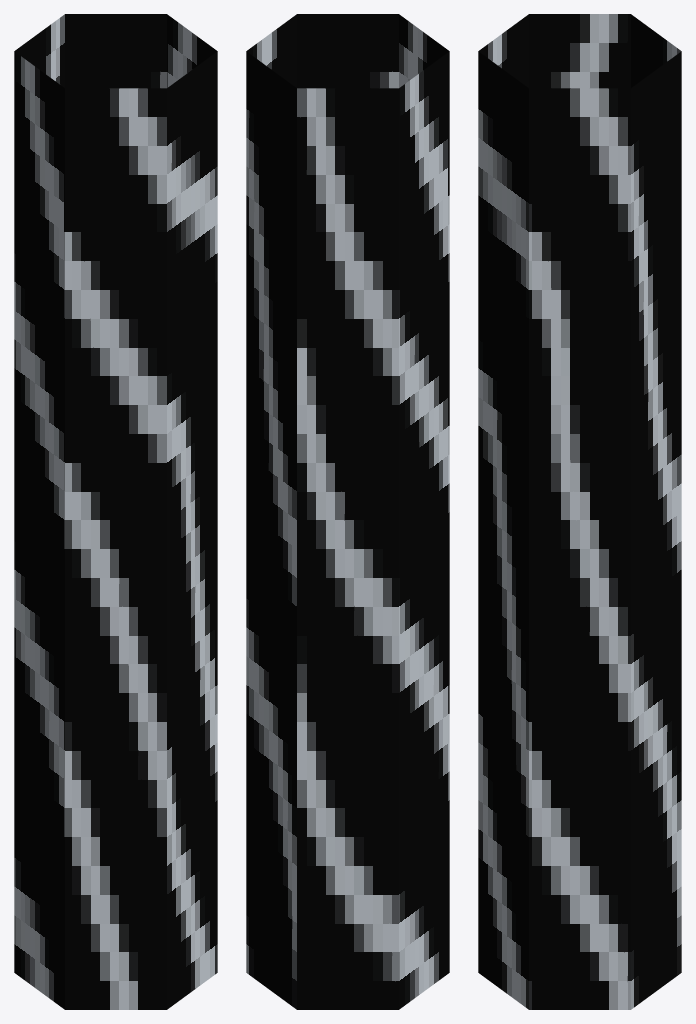
File: tower_tube.glb
3 views of the same model, side by side, from view 1: azimuth 30°, elevation 25°; view 2: azimuth 150°, elevation 25°; view 3: azimuth 270°, elevation 25° (orthographic).
Visible parts, largest first — view 1: Cylinder; view 2: Cylinder; view 3: Cylinder.
Boxes of the visible parts, bbox=[...] form: Cylinder: bbox=[14, 14, 217, 1009]; Cylinder: bbox=[246, 14, 449, 1009]; Cylinder: bbox=[478, 14, 681, 1009].
Size of the model in its own units: 17.32 by 100 by 20.
1 material, 1 textured.
